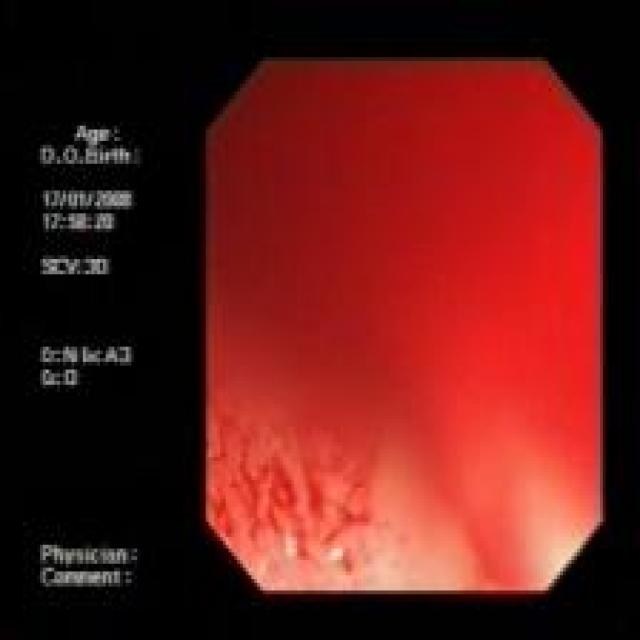blood: (211, 443, 365, 560)
color misalignment: (208, 63, 601, 427), (38, 109, 155, 597)
